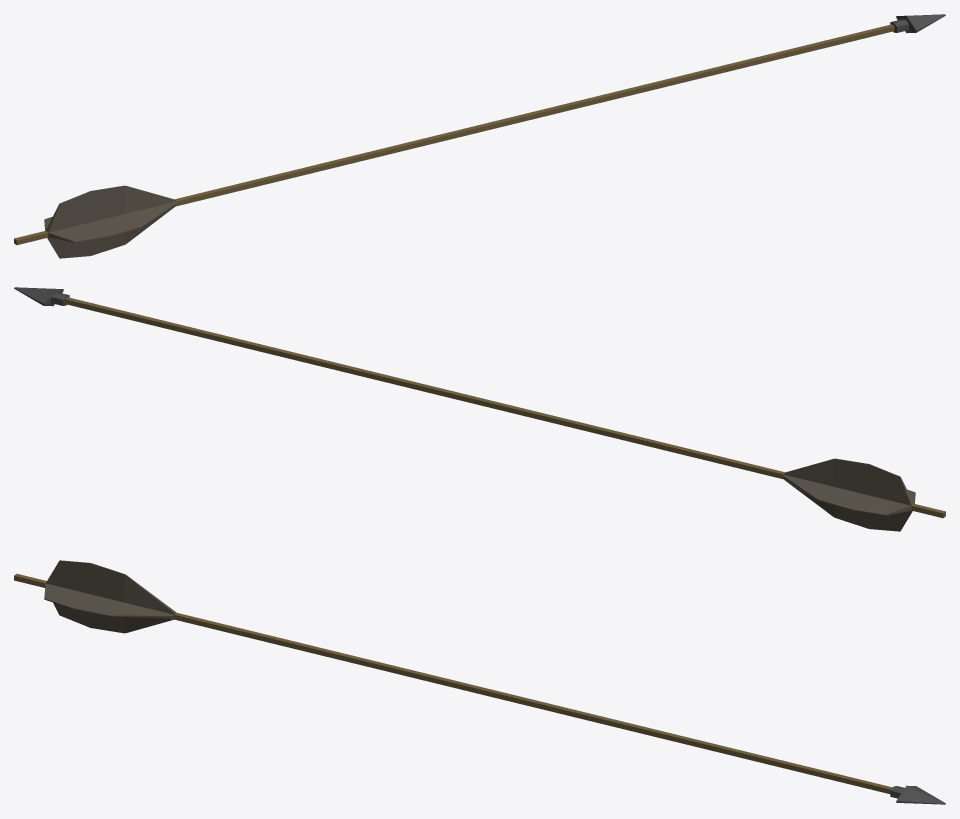
Rendered from Arrow.fbx.
3 renders of one model, top to bottom at view 1: azimuth 30°, elevation 25°; view 2: azimuth 150°, elevation 25°; view 3: azimuth 330°, elevation 25°, orthographic.
Visible parts, largest first — view 1: Cube; view 2: Cube; view 3: Cube.
Part boxes in pixels (bbox=[...]): Cube: bbox=[14, 14, 945, 258]; Cube: bbox=[14, 287, 945, 531]; Cube: bbox=[14, 560, 945, 804].
Bounding box in the file's own units: 195 × 12.96 × 13.12.
